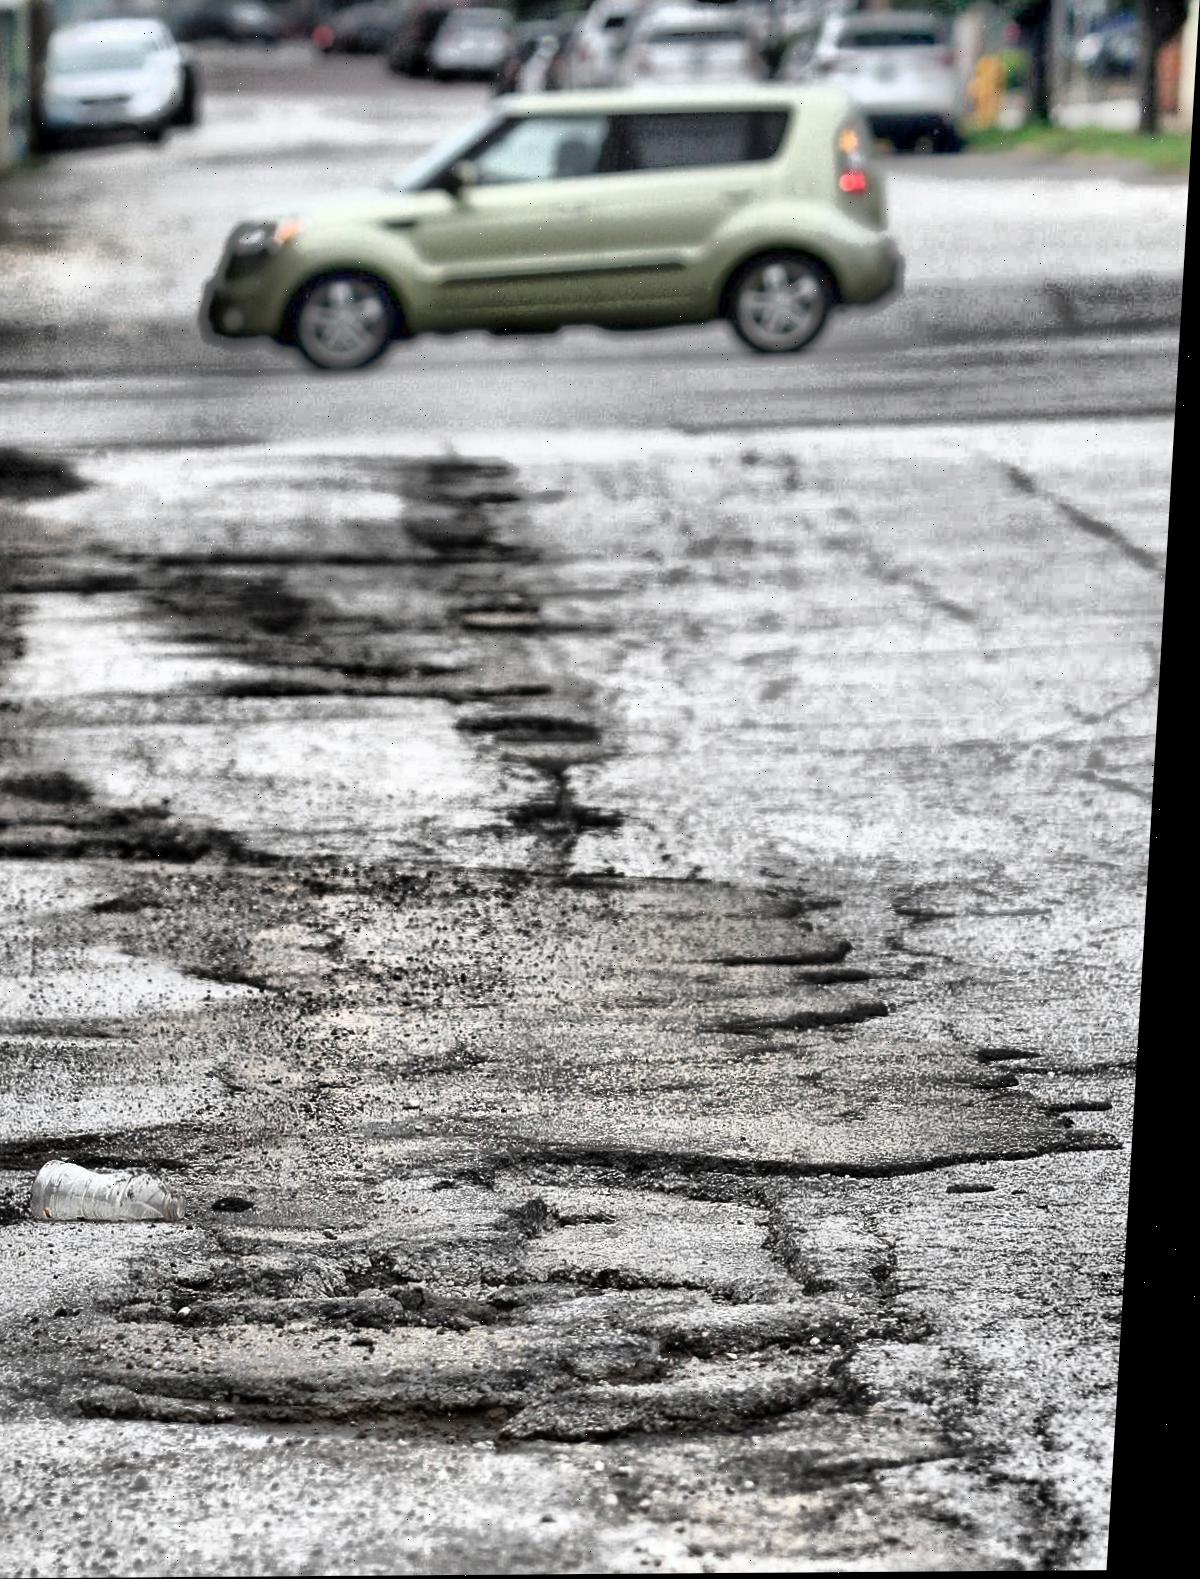pothole: (83, 1147, 931, 1494), (34, 808, 232, 882), (452, 694, 625, 760)
